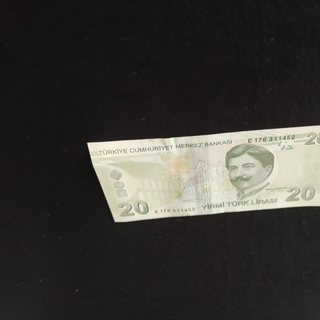20TLBack: (87, 123, 320, 223)
